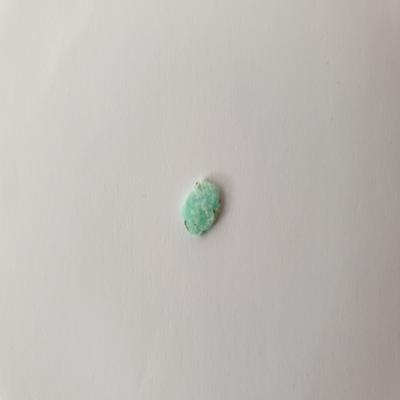plastic: (177, 165, 226, 240)
